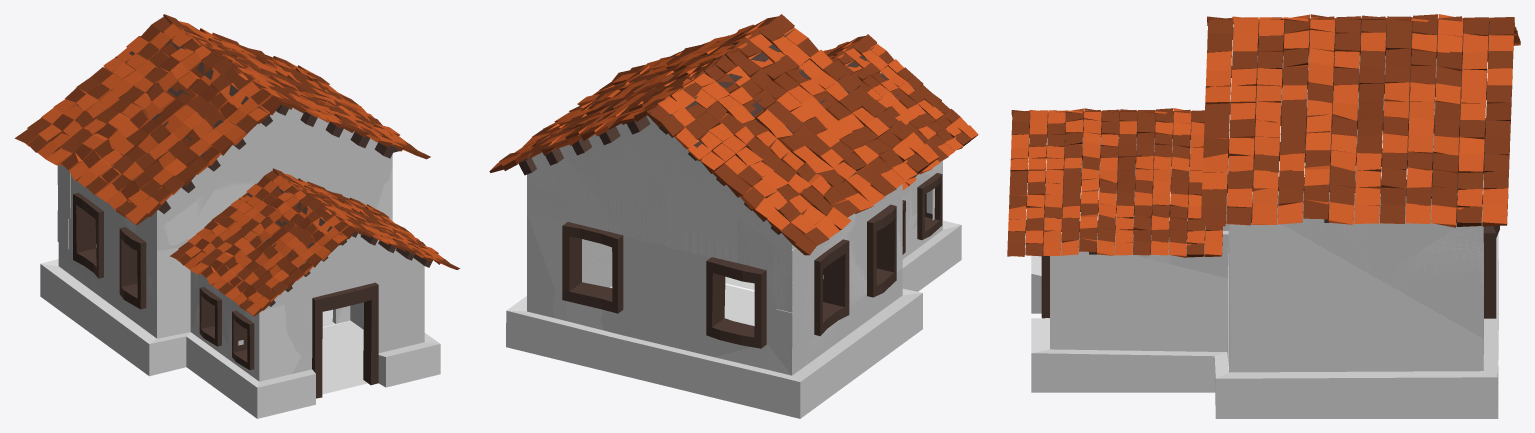
File: house.fbx
3 renders of one model, left to right at view 1: azimuth 30°, elevation 25°; view 2: azimuth 150°, elevation 25°; view 3: azimuth 270°, elevation 25°, orthographic. The views are drawn at different scales.
Parts seen in each view (by area): view 1: Cube.010, Cube, Cube.008, Cube_cell.250, Cube_cell.132, Cube_cell.025, Cube.015, Cube_cell.181, Cube_cell.134, Cube.009, Cube.003, Cube_cell.242 (+20 smaller); view 2: Cube, Cube.010, Cube_cell.250, Cube.008, Cube.014, Cube.013, Cube_cell.222, Cube.009, Cube.003, Cube_cell.126, Cube_cell.194, Cube_cell.272 (+14 smaller); view 3: Cube, Cube.010, Cube.008, Cube_cell.296, Cube_cell.250, Cube_cell.310, Cube_cell.224, Cube_cell.095, Cube.002, Cube.013, Cube_cell.062, Cube_cell.059 (+4 smaller).
Boxes of the visible parts, x1,y1,x2,y2 form: Cube.010: [14, 14, 430, 225]; Cube: [40, 167, 440, 418]; Cube.008: [170, 168, 459, 316]; Cube_cell.250: [58, 85, 342, 338]; Cube_cell.132: [220, 107, 329, 181]; Cube_cell.025: [344, 244, 423, 337]; Cube.015: [312, 282, 378, 398]; Cube_cell.181: [284, 265, 343, 355]; Cube_cell.134: [344, 245, 422, 317]; Cube.009: [73, 192, 103, 278]; Cube.003: [119, 227, 146, 309]; Cube_cell.242: [220, 112, 325, 179]; Cube: [506, 116, 961, 418]; Cube.010: [489, 14, 938, 255]; Cube_cell.250: [527, 68, 902, 374]; Cube.008: [823, 34, 978, 190]; Cube.014: [706, 257, 766, 348]; Cube.013: [562, 222, 623, 313]; Cube_cell.222: [640, 276, 735, 355]; Cube.009: [814, 239, 849, 336]; Cube.003: [867, 204, 896, 297]; Cube_cell.126: [666, 283, 736, 356]; Cube_cell.194: [594, 164, 665, 268]; Cube_cell.272: [737, 217, 772, 307]; Cube: [1031, 138, 1498, 418]; Cube.010: [1200, 14, 1520, 227]; Cube.008: [1007, 108, 1222, 257]; Cube_cell.296: [1379, 226, 1483, 297]; Cube_cell.250: [1229, 24, 1483, 371]; Cube_cell.310: [1369, 194, 1457, 278]; Cube_cell.224: [1405, 294, 1477, 335]; Cube_cell.095: [1338, 195, 1400, 283]; Cube.002: [1227, 27, 1488, 204]; Cube.013: [1483, 226, 1496, 318]; Cube_cell.062: [1286, 197, 1337, 255]; Cube_cell.059: [1401, 194, 1457, 263].
Size of the model in its own units: 2190 by 1759 by 2562.
